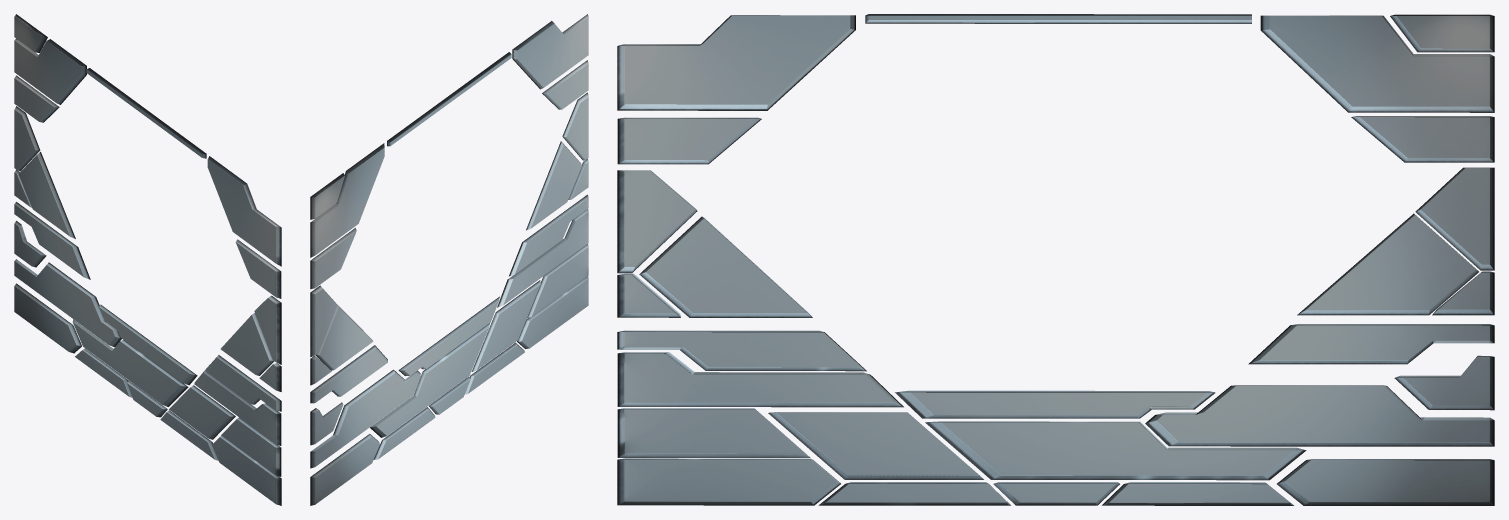
The model's file is SciFi_Conf_Room_Panel_01.FBX.
3 renders of one model, left to right at view 1: azimuth 30°, elevation 25°; view 2: azimuth 150°, elevation 25°; view 3: azimuth 270°, elevation 25°, orthographic. The views are drawn at different scales.
Parts seen in each view (by area): view 1: SciFi_Conf_Room_Panel_01; view 2: SciFi_Conf_Room_Panel_01; view 3: SciFi_Conf_Room_Panel_01.
Boxes of the visible parts, box(x1,y1,x2,y2) form: SciFi_Conf_Room_Panel_01: box(14, 14, 281, 505); SciFi_Conf_Room_Panel_01: box(310, 14, 588, 505); SciFi_Conf_Room_Panel_01: box(617, 14, 1494, 505).
Bounding box in the file's own units: 48.24 × 3294 × 5346.
